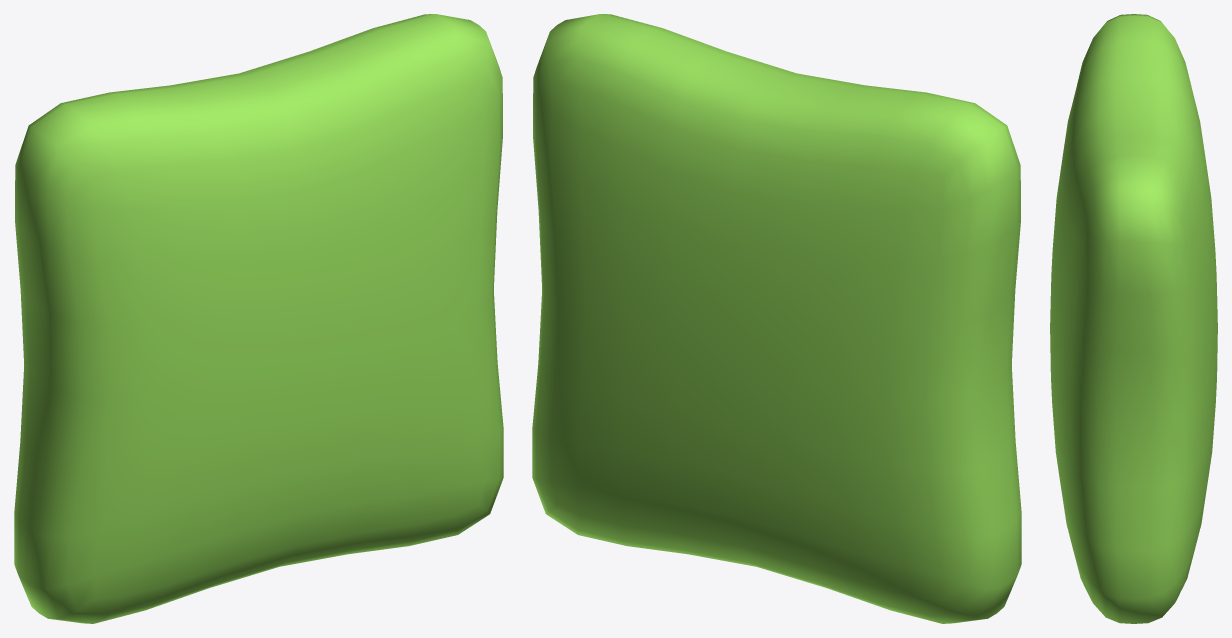
The model's file is pillow_f.fbx.
3 renders of one model, left to right at view 1: azimuth 30°, elevation 25°; view 2: azimuth 150°, elevation 25°; view 3: azimuth 270°, elevation 25°, orthographic. The views are drawn at different scales.
Parts seen in each view (by area): view 1: Cube; view 2: Cube; view 3: Cube.
Boxes of the visible parts, box(x1,y1,x2,y2) form: Cube: box(14, 14, 503, 623); Cube: box(532, 14, 1021, 623); Cube: box(1050, 14, 1217, 623).
Size of the model in its own units: 225 by 235 by 80.25.
